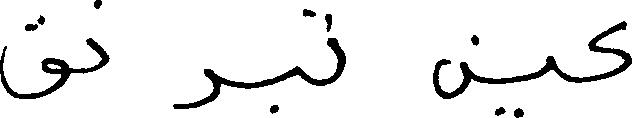X: (0, 10, 66, 103), (496, 51, 557, 117), (270, 5, 303, 117), (305, 4, 343, 90), (434, 30, 478, 103), (592, 16, 631, 85), (175, 64, 219, 113), (88, 0, 107, 76)
